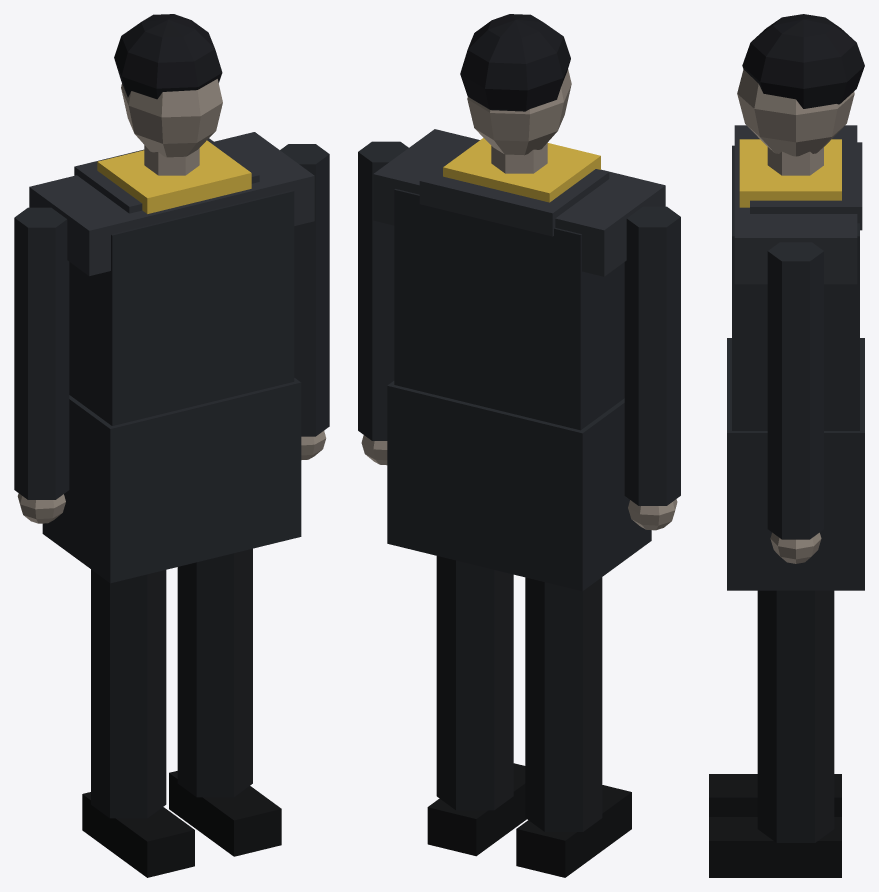
File: human_noir.glb
3 views of the same model, side by side, from view 1: azimuth 30°, elevation 25°; view 2: azimuth 150°, elevation 25°; view 3: azimuth 270°, elevation 25° (orthographic). The views are drawn at different scales.
Parts seen in each view (by area): view 1: human_noir; view 2: human_noir; view 3: human_noir.
Boxes of the visible parts, x1=… form: human_noir: x1=14, y1=14, x2=329, y2=877; human_noir: x1=358, y1=14, x2=680, y2=877; human_noir: x1=709, y1=14, x2=864, y2=877.
Size of the model in its own units: 0.7 by 1.78 by 0.305.
